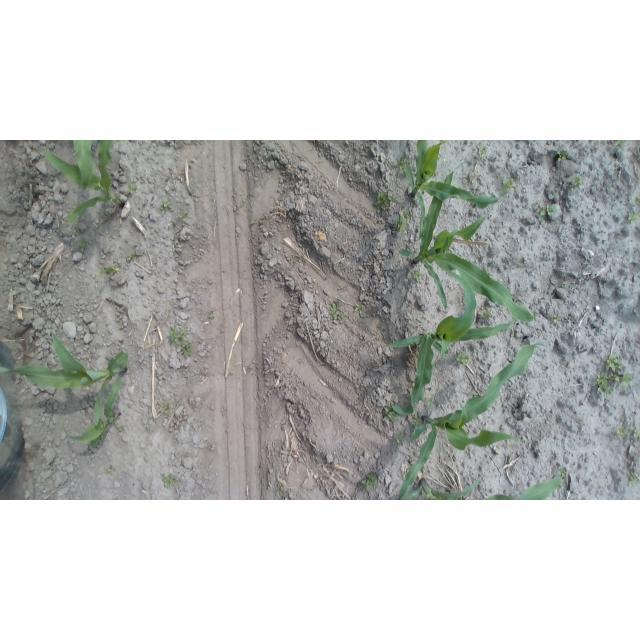Maize: (395, 340, 547, 500), (397, 171, 536, 325), (392, 267, 521, 416), (0, 328, 132, 428), (41, 140, 124, 225), (61, 375, 127, 448), (400, 473, 568, 500), (402, 141, 446, 240)
Weeds: (594, 352, 634, 396), (170, 323, 193, 357), (614, 426, 640, 443), (372, 192, 396, 210), (360, 471, 378, 491), (382, 402, 399, 422), (331, 301, 346, 323), (537, 201, 555, 219), (394, 215, 410, 234), (162, 474, 181, 490), (397, 155, 412, 175), (272, 482, 288, 499), (159, 195, 172, 214), (99, 265, 121, 276), (568, 174, 584, 189), (239, 190, 251, 210), (500, 177, 517, 191), (457, 349, 470, 367), (550, 314, 566, 327), (290, 254, 307, 266), (160, 401, 173, 416), (78, 238, 89, 255), (353, 302, 367, 315), (413, 269, 425, 284), (477, 310, 492, 322), (394, 434, 407, 447), (126, 181, 138, 195), (628, 472, 640, 486), (557, 465, 567, 479), (249, 217, 266, 225), (478, 144, 489, 156), (556, 149, 567, 161), (627, 211, 639, 222), (559, 283, 570, 294), (412, 415, 422, 427), (125, 250, 135, 262), (281, 416, 291, 428), (206, 310, 217, 320), (177, 212, 189, 221), (425, 397, 435, 407), (72, 225, 81, 236), (117, 424, 126, 435), (633, 194, 640, 206), (577, 417, 586, 426), (107, 467, 116, 476), (336, 283, 346, 291)
